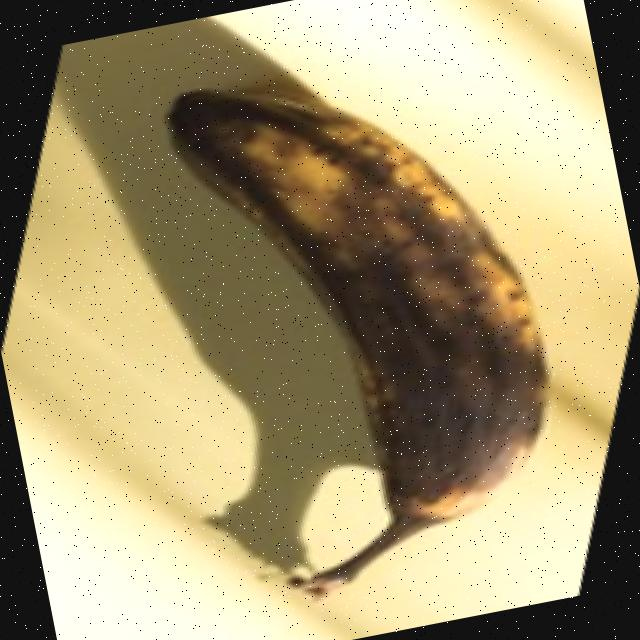Rotten: (158, 36, 589, 615)
